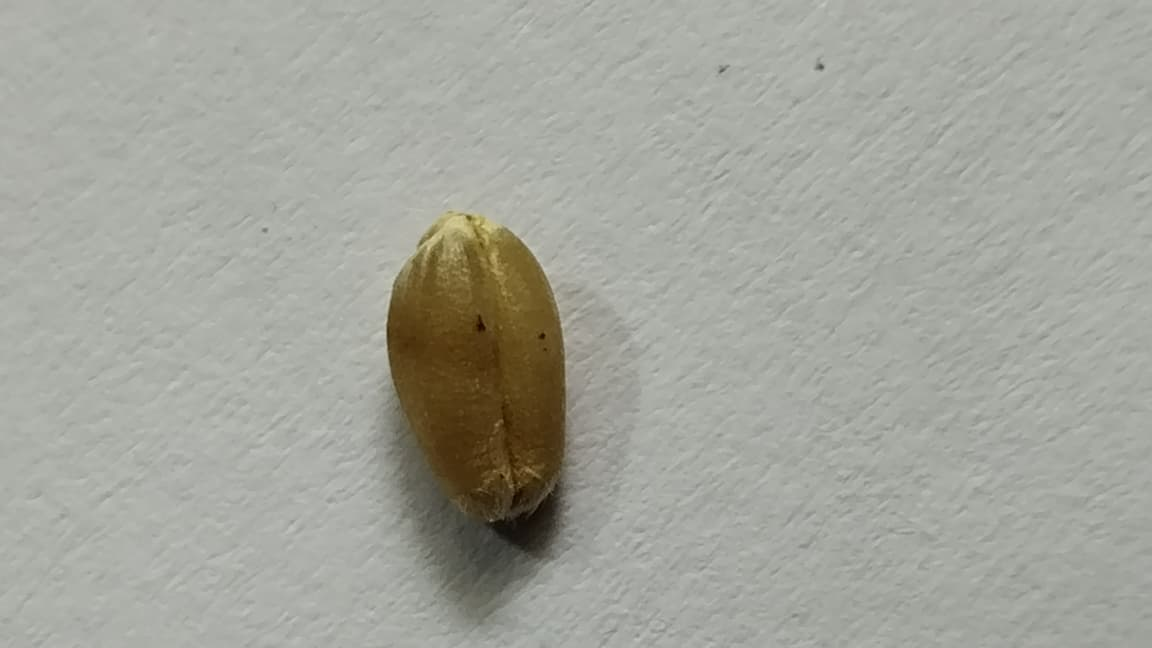healthy: (387, 212, 566, 520)
